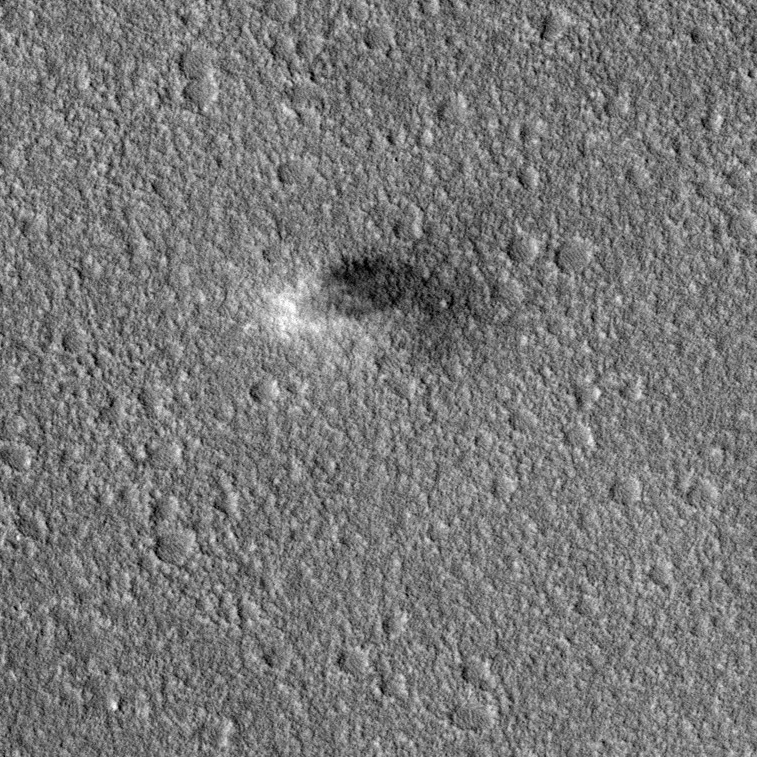dust_devil: (237, 248, 464, 350)
